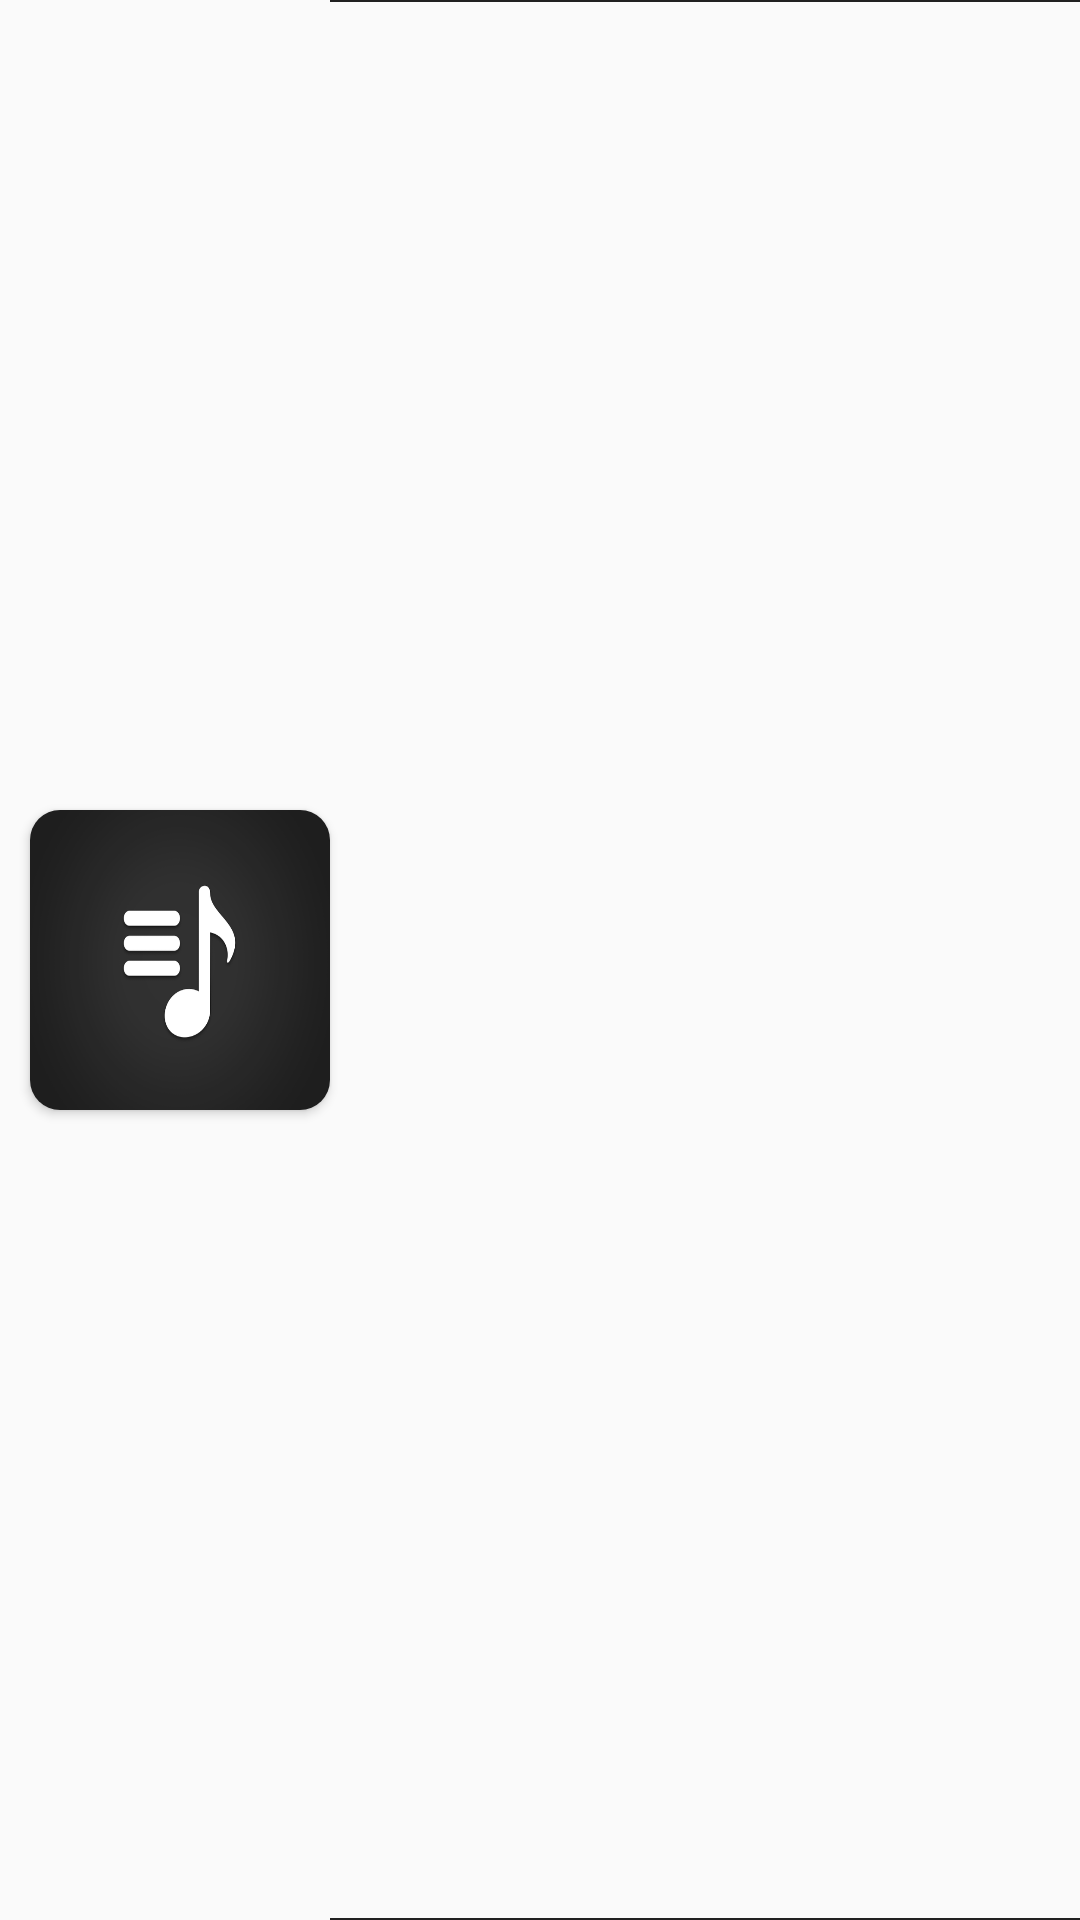

Named icons in this screenshot (1080px×1920px) and their centers, point (x, y):
playlistart: point (180, 960)
